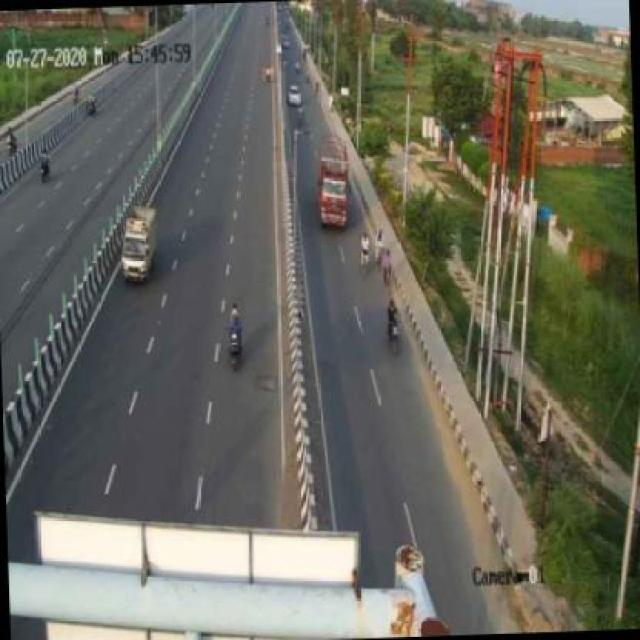car: (115, 203, 163, 292)
